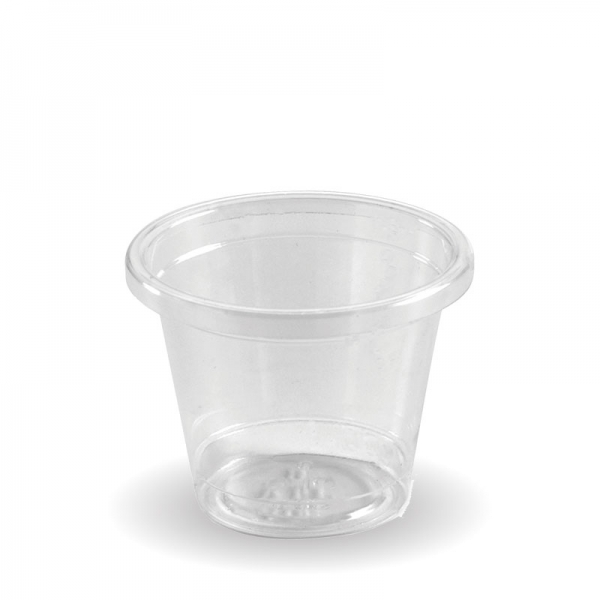plastic_glass: (109, 175, 491, 560)
